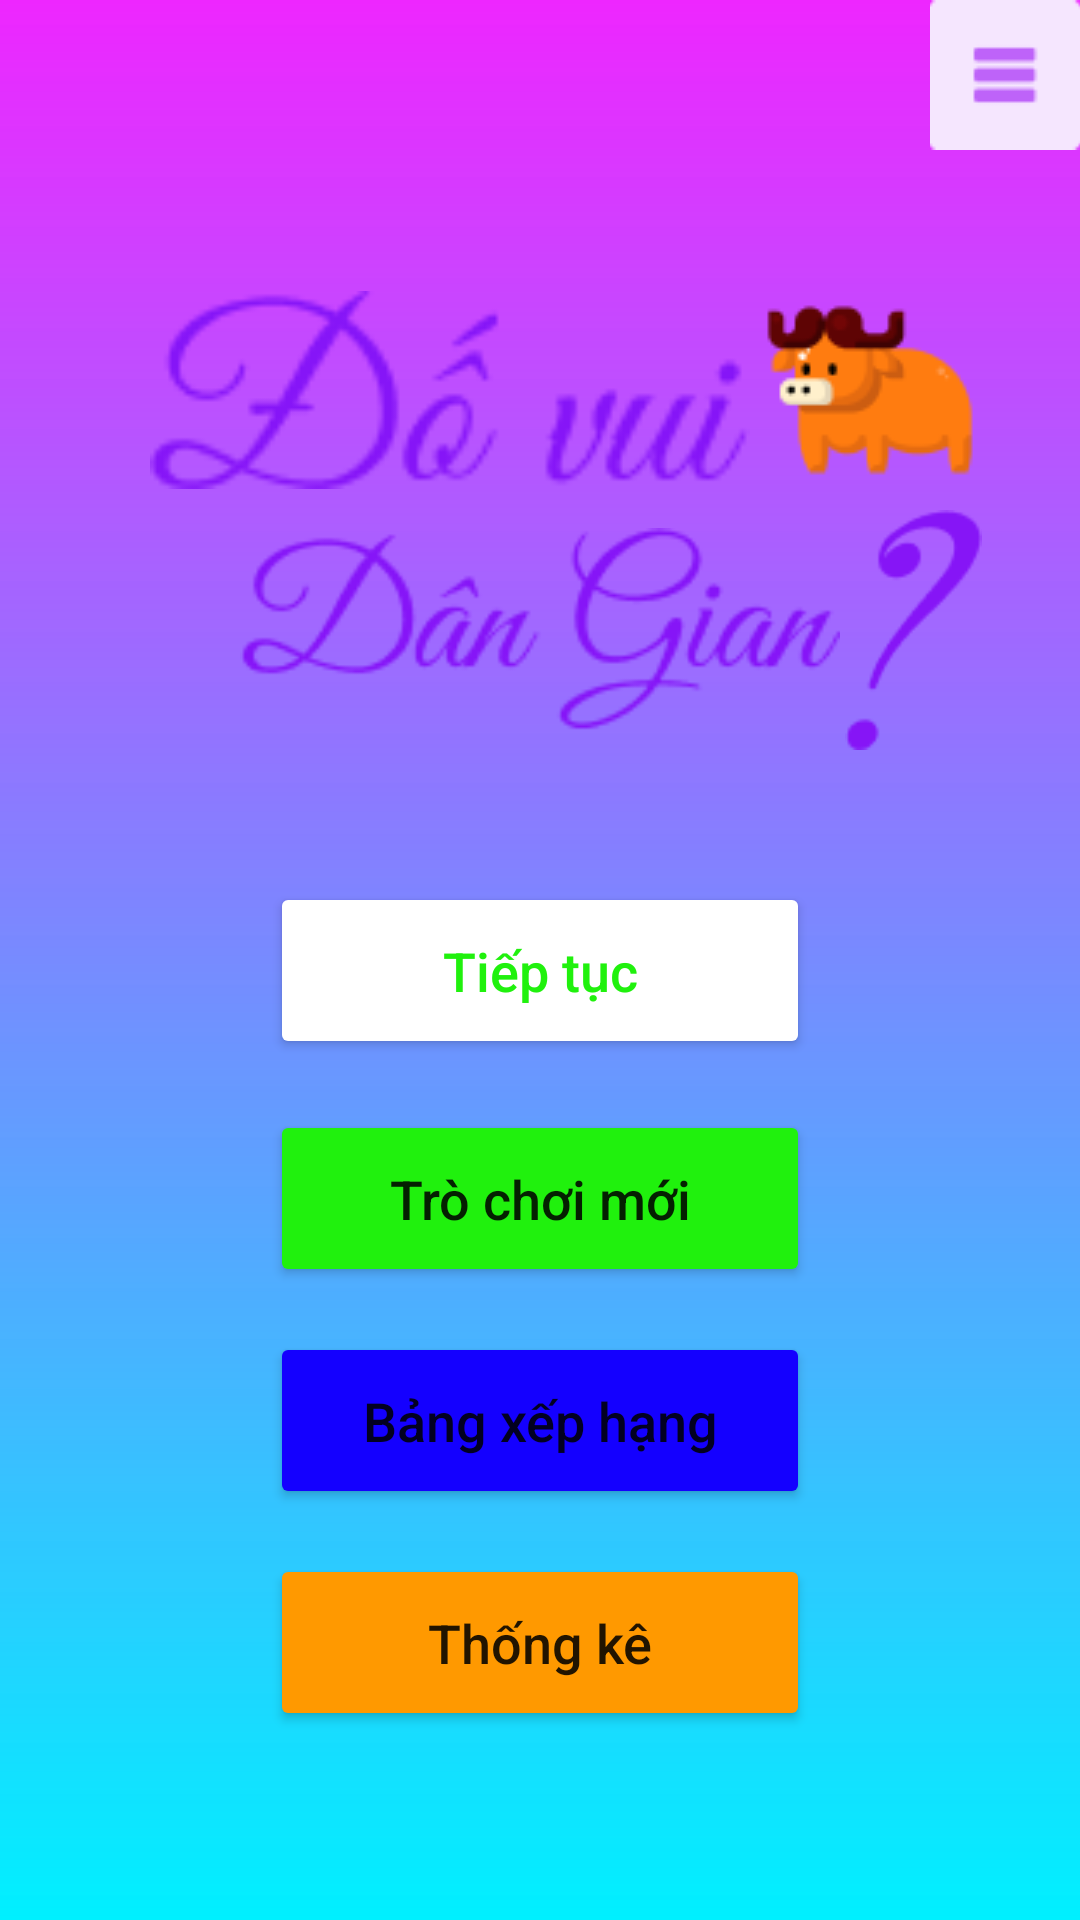

Where icons sit on this 1080x1920 app screen, as (x1, y1, x2, y2):
buffalo: (750, 305, 990, 510)
hoicham: (840, 510, 987, 750)
imgmenu: (930, 0, 1080, 150)
